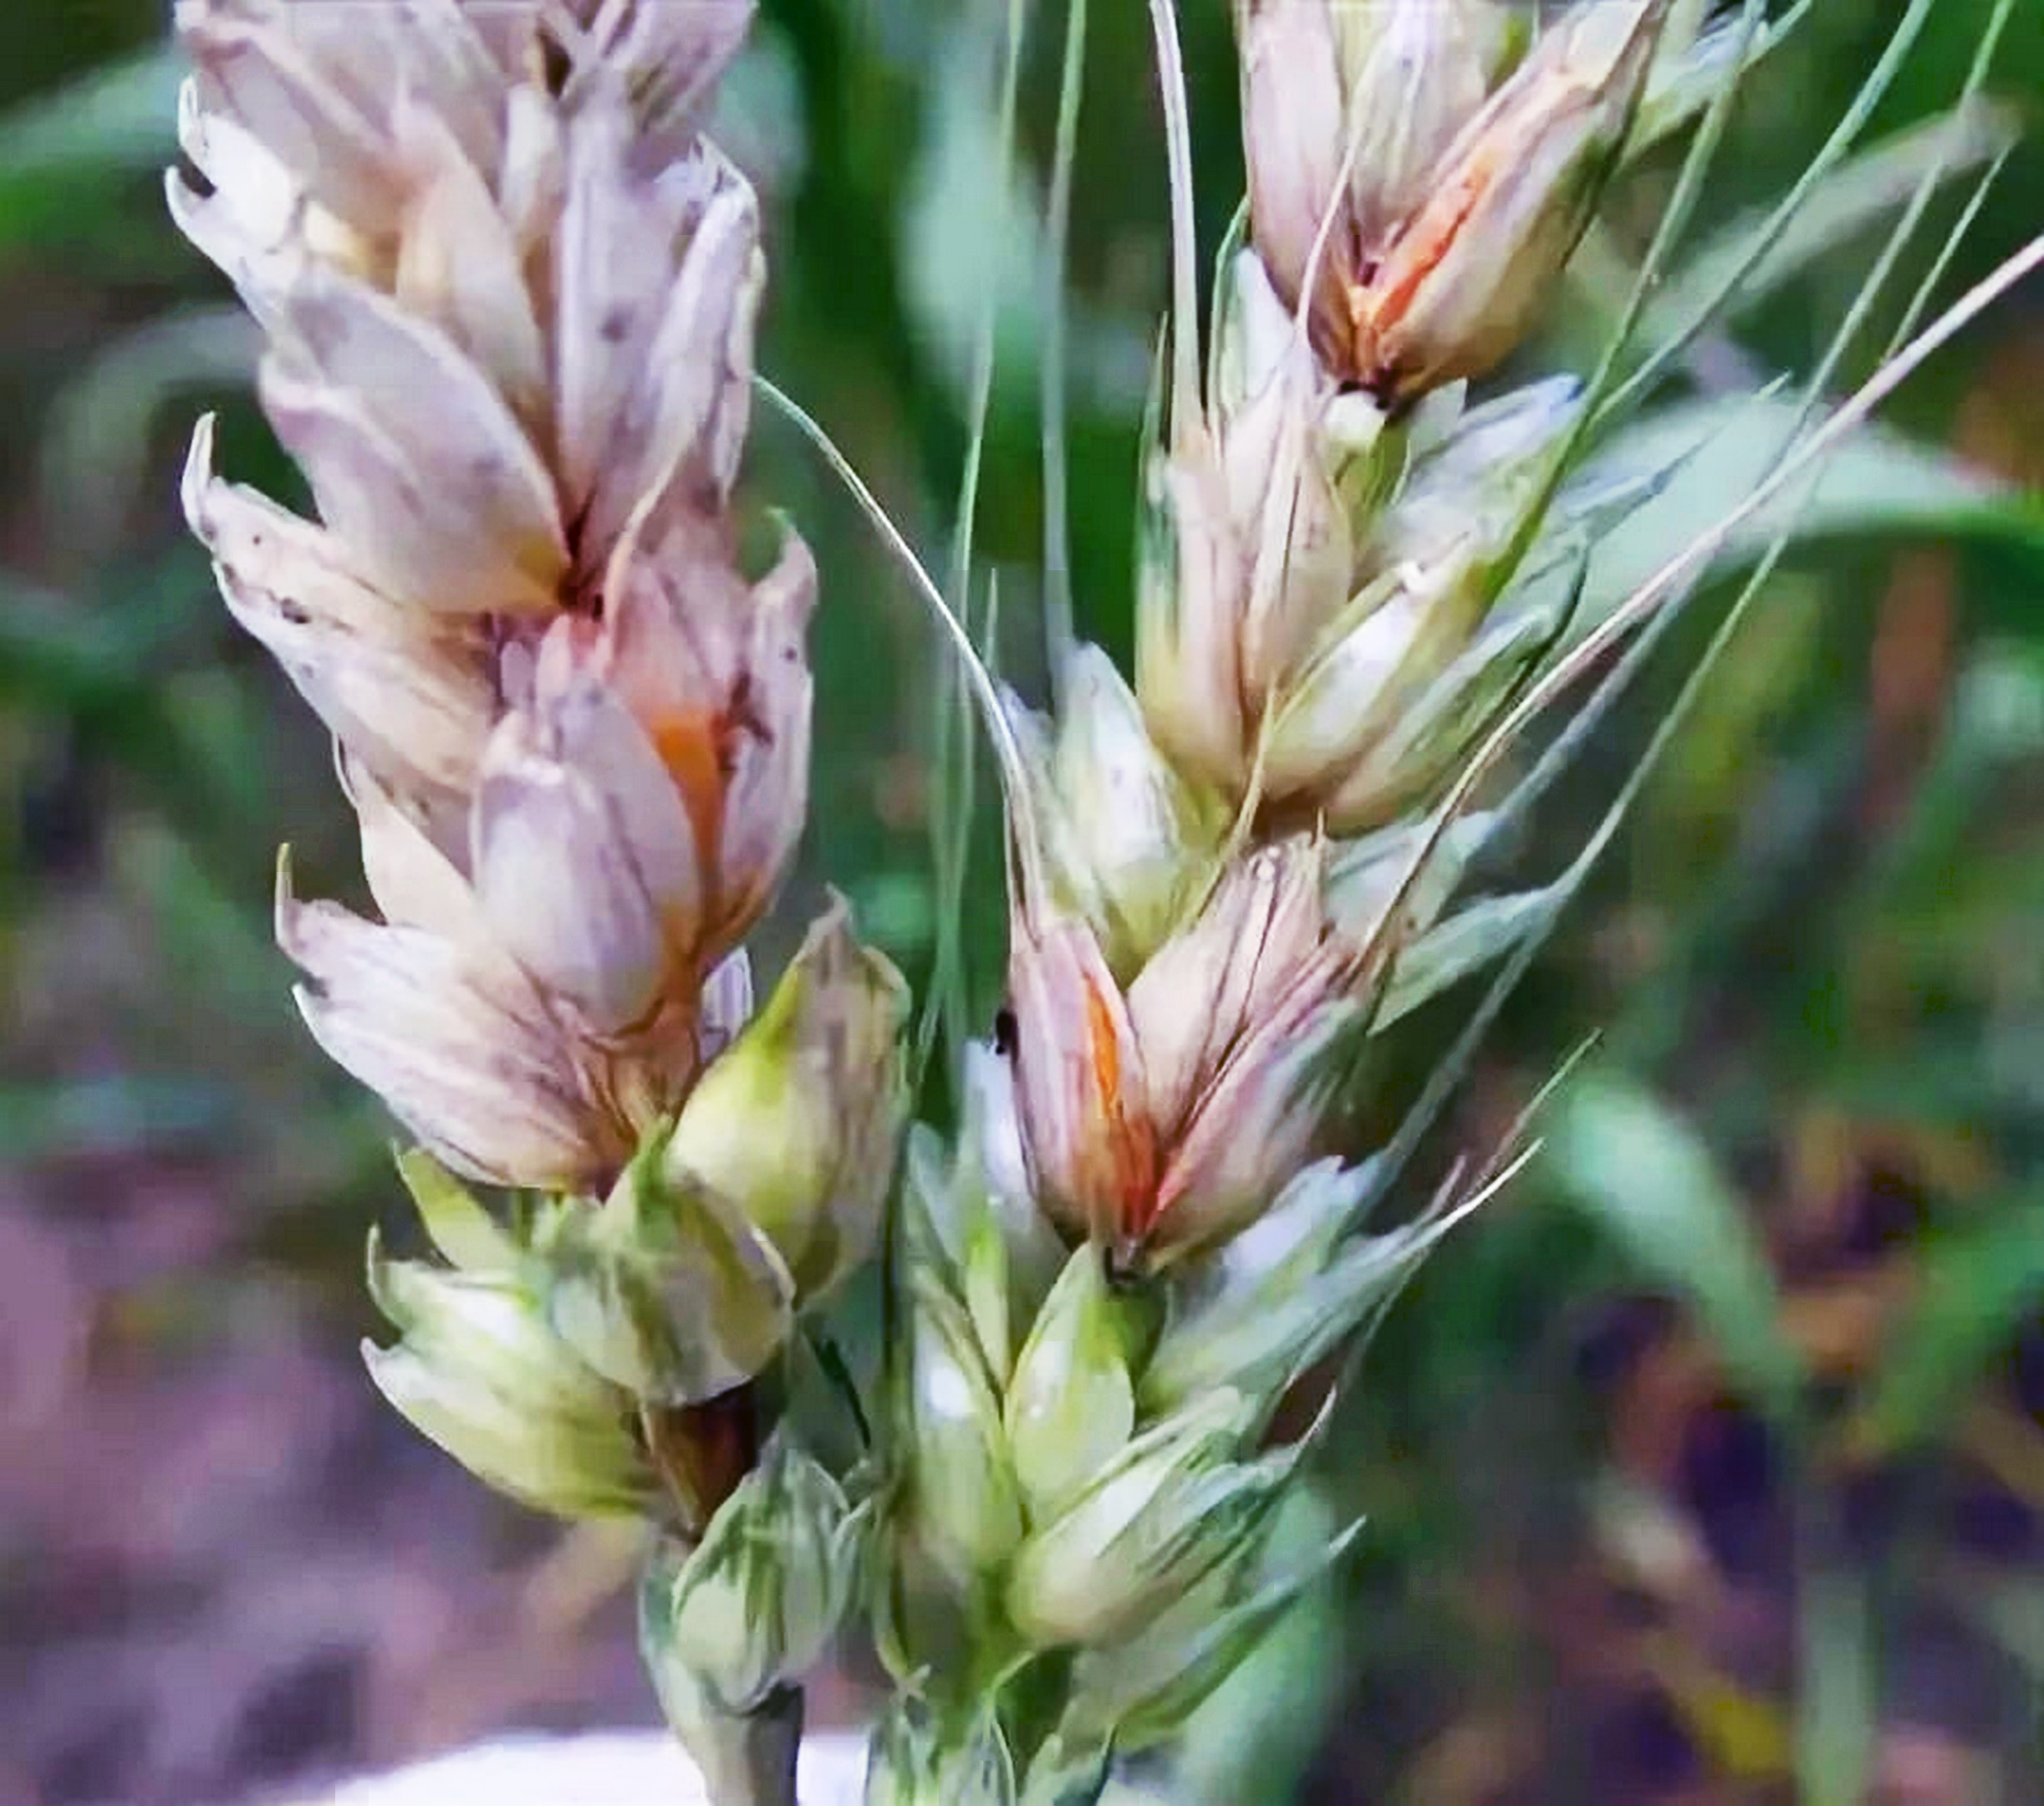Wheat scab: (964, 0, 1767, 1646)
